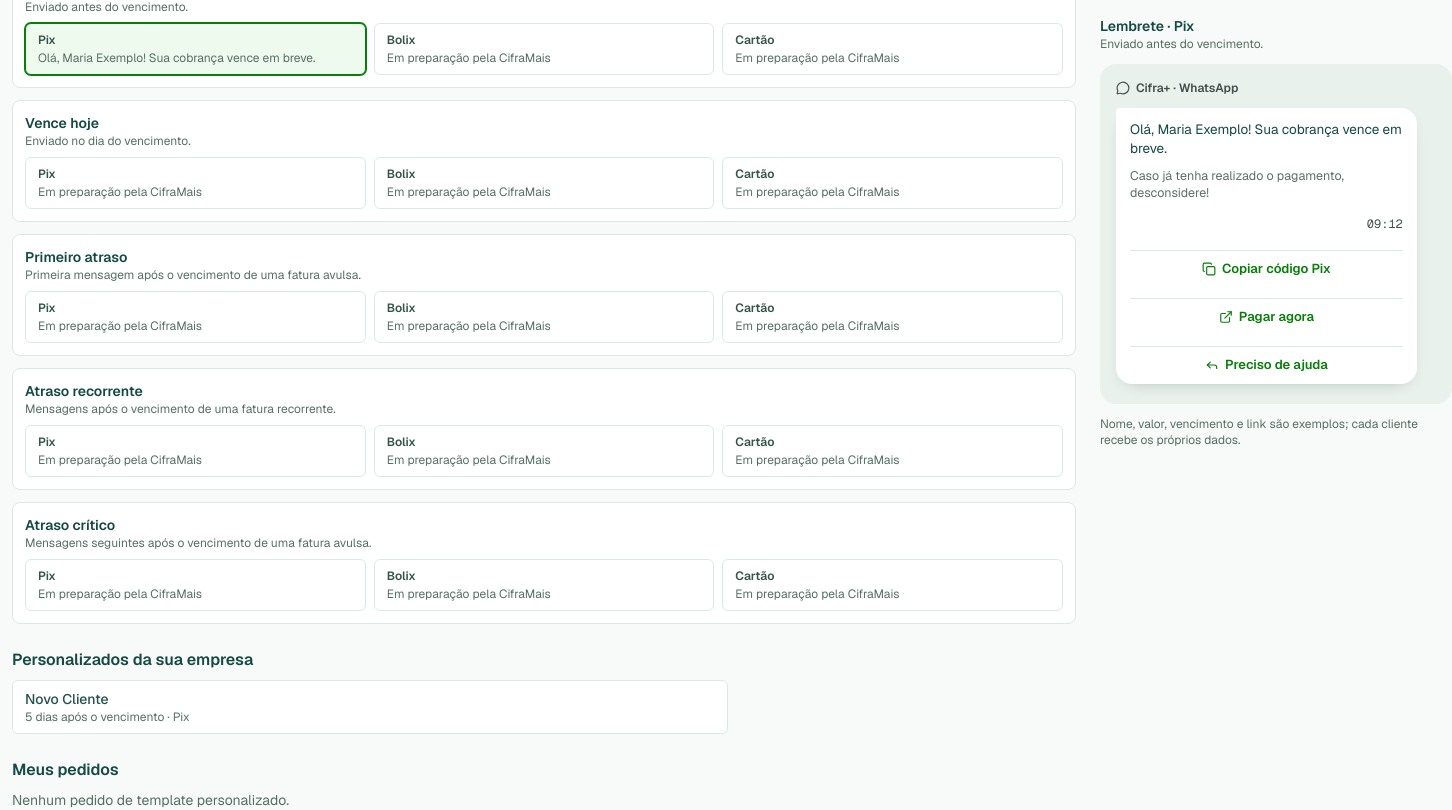
CompanyCollectionTemplates › lists the custom templates of the company with their step
(page scrolled)
Step 1. Click the button "Novo Cliente 5 dias após o vencimento · Pix" → (67, 699), box [12,680,728,734]
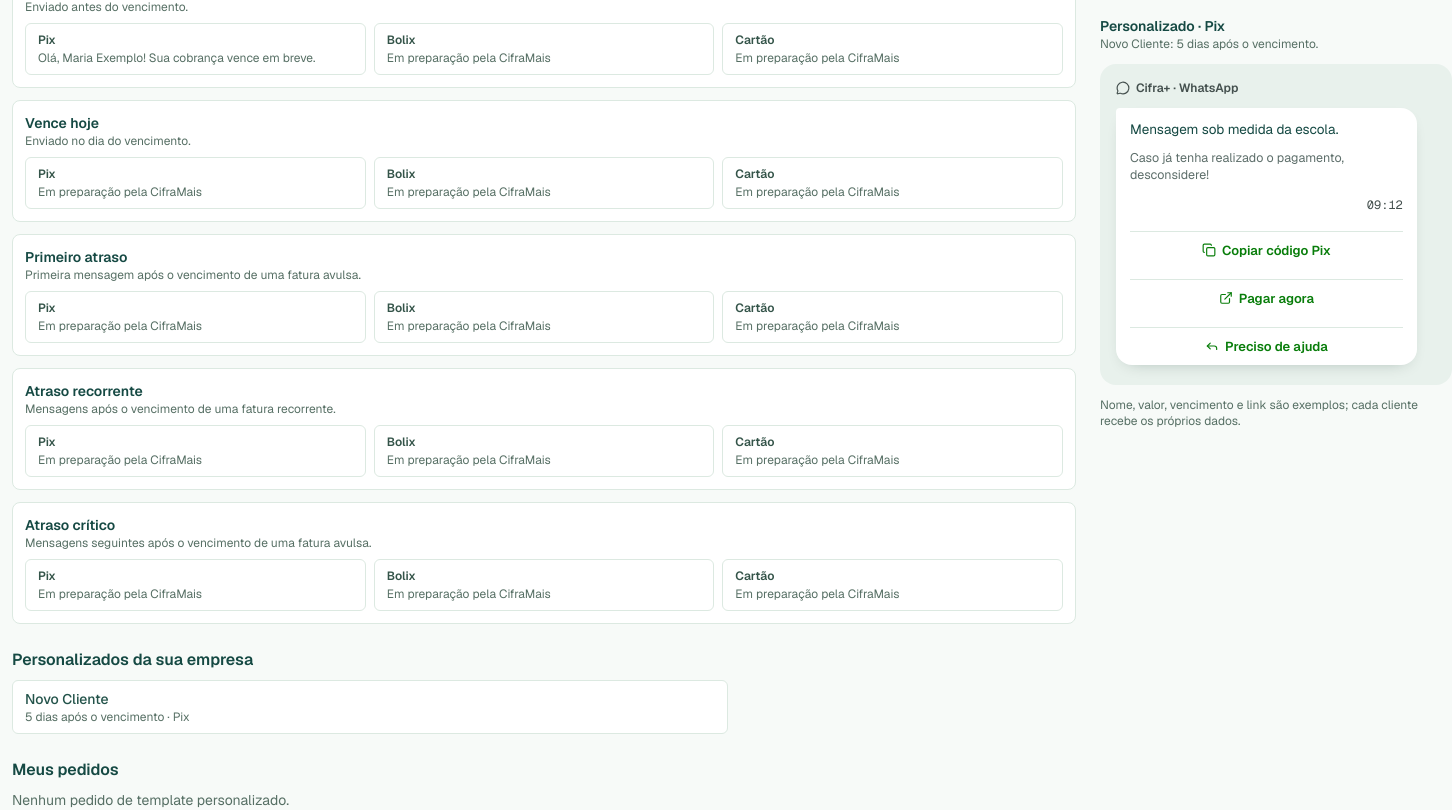
Now the picture named "Personalizado · Pix" shows "Mensagem sob medida da escola.", box [1130,120,1338,138]
